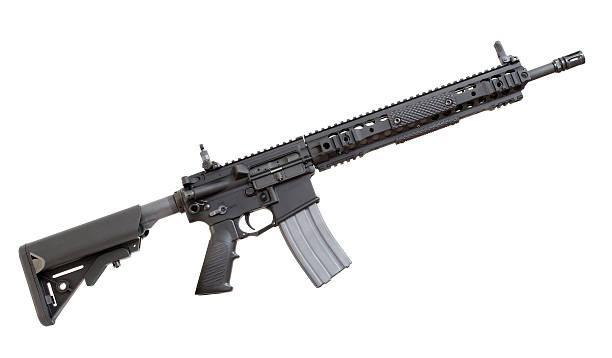larga: (18, 39, 586, 327)
